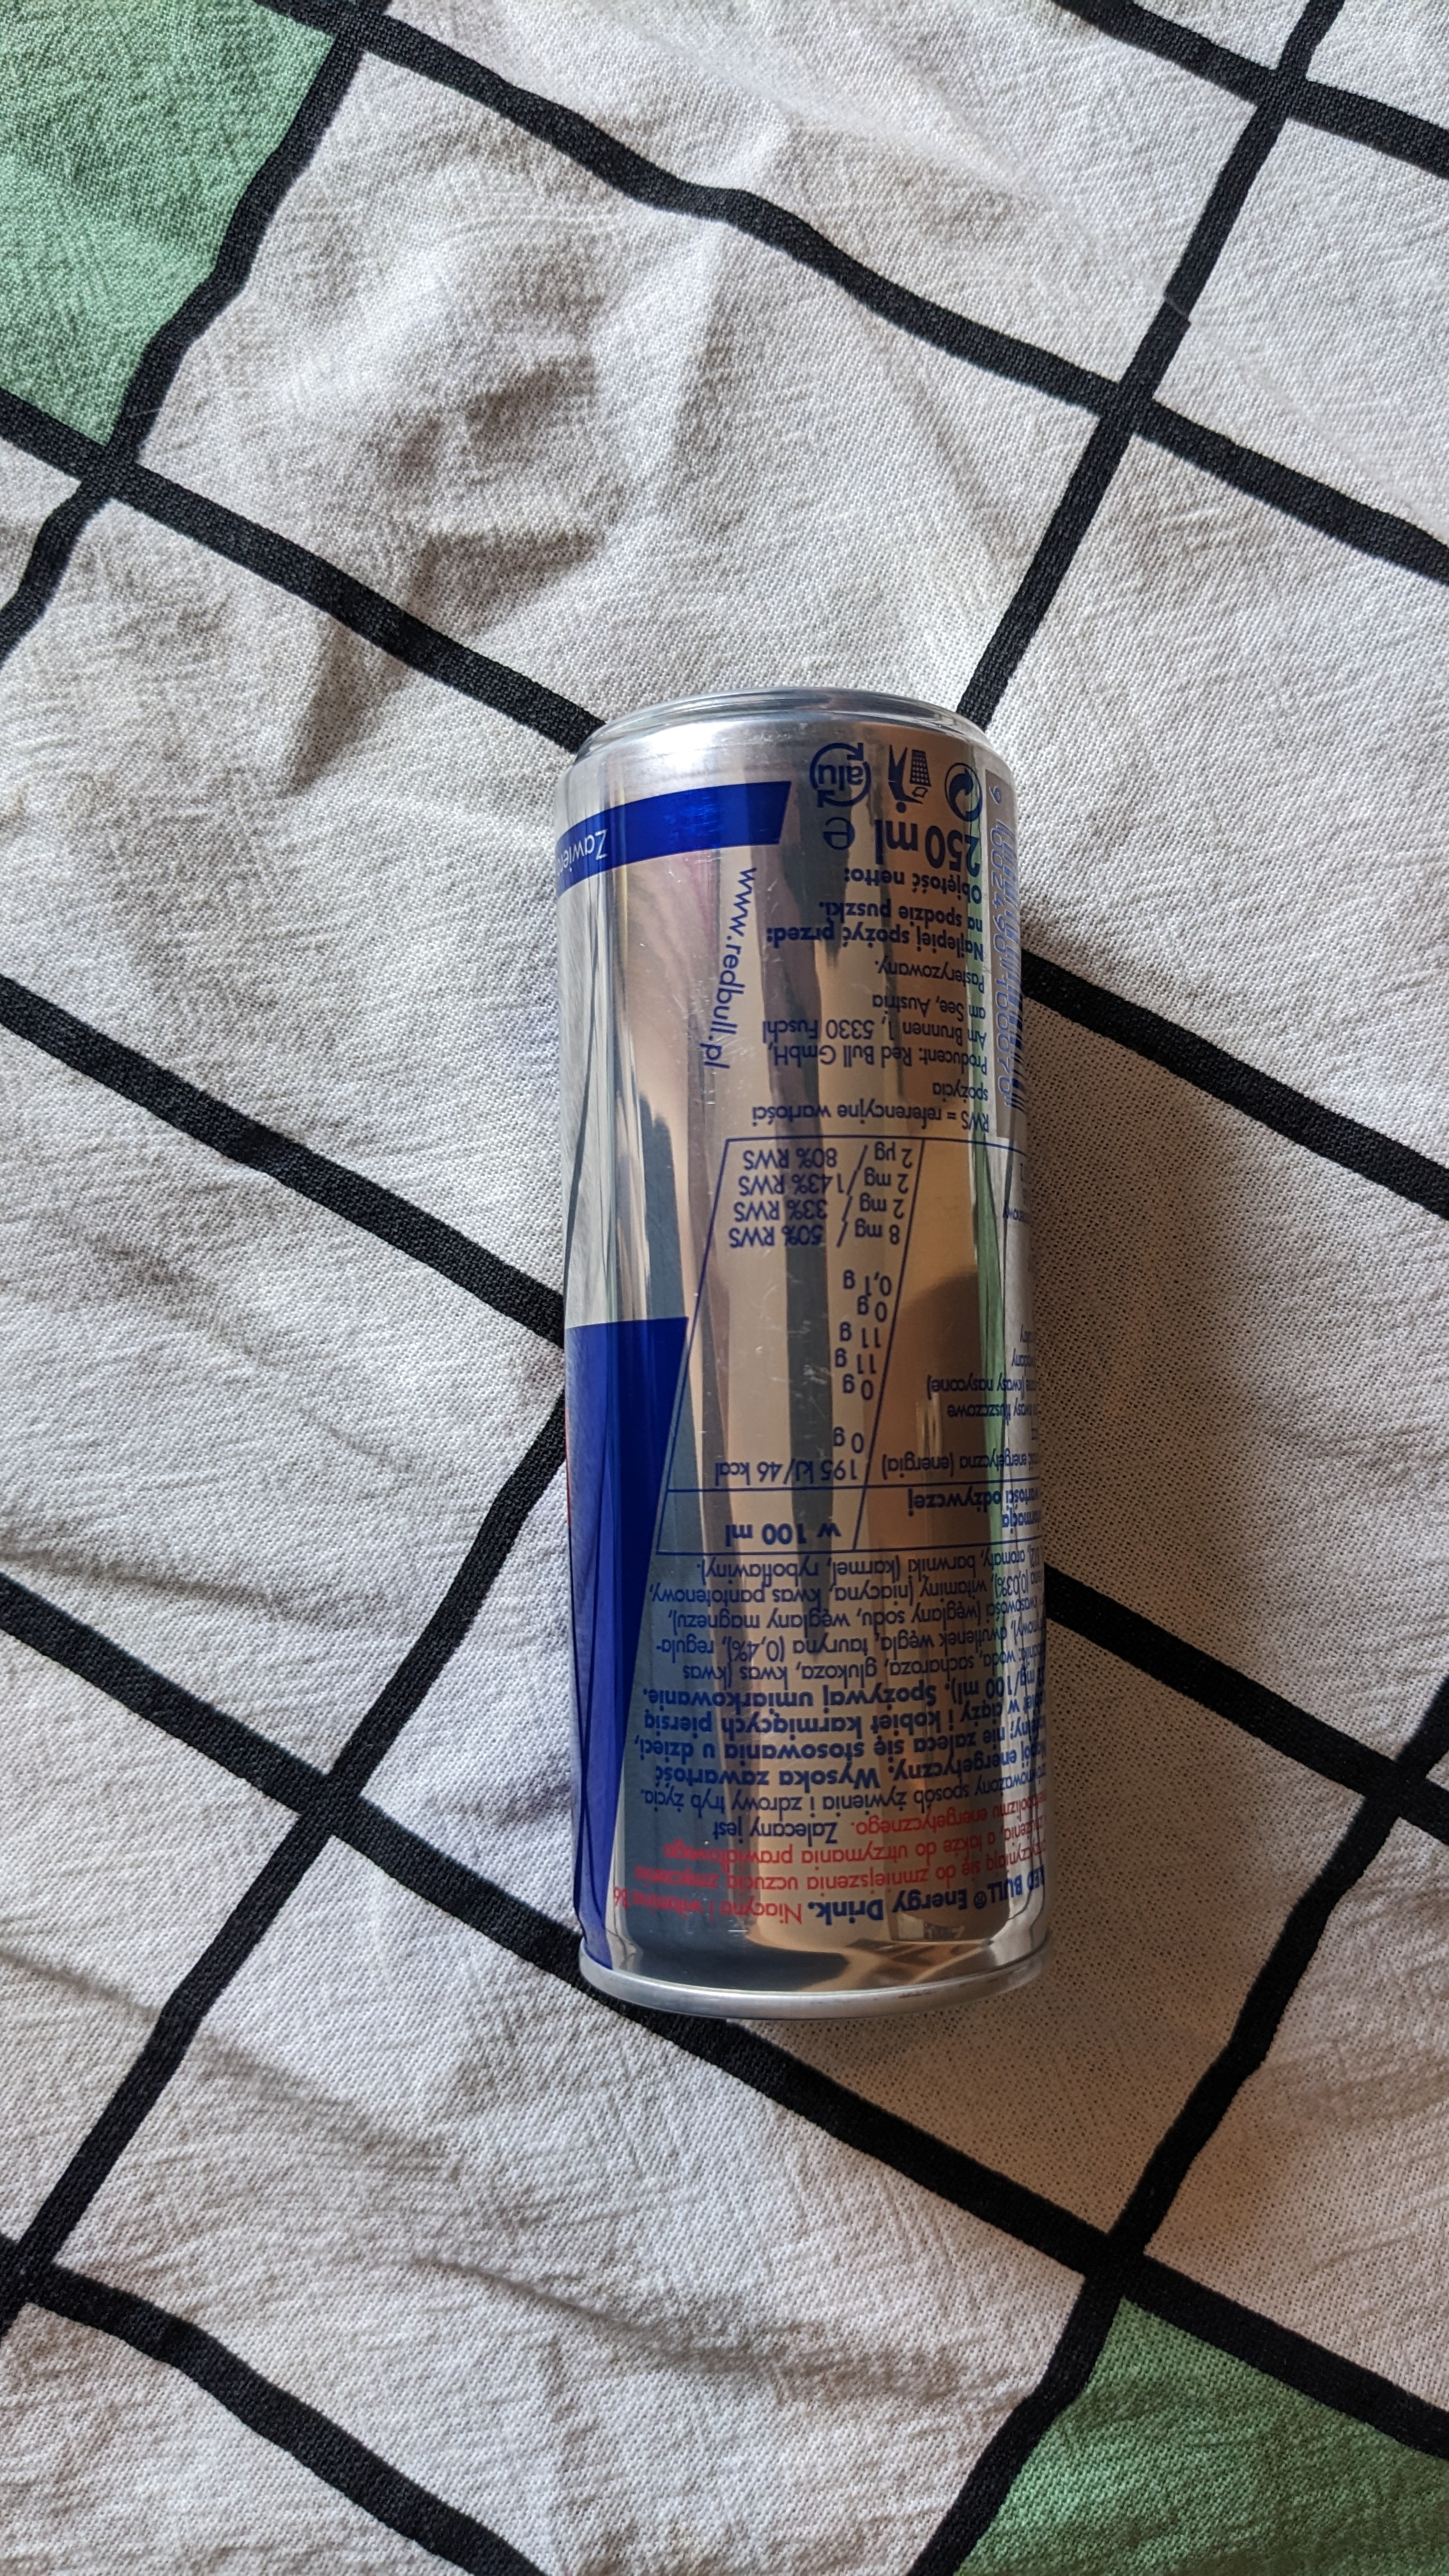red-bull: (515, 690, 1118, 2049)
